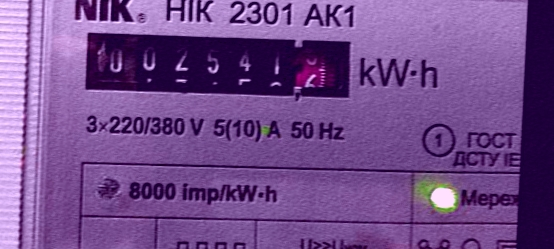0: (137, 40, 158, 74), (106, 45, 124, 75)
1: (265, 44, 283, 77)
2: (168, 41, 191, 76)
4: (234, 43, 253, 75)
5: (202, 45, 219, 77)
6: (299, 69, 316, 91)
screen: (67, 14, 371, 118)
